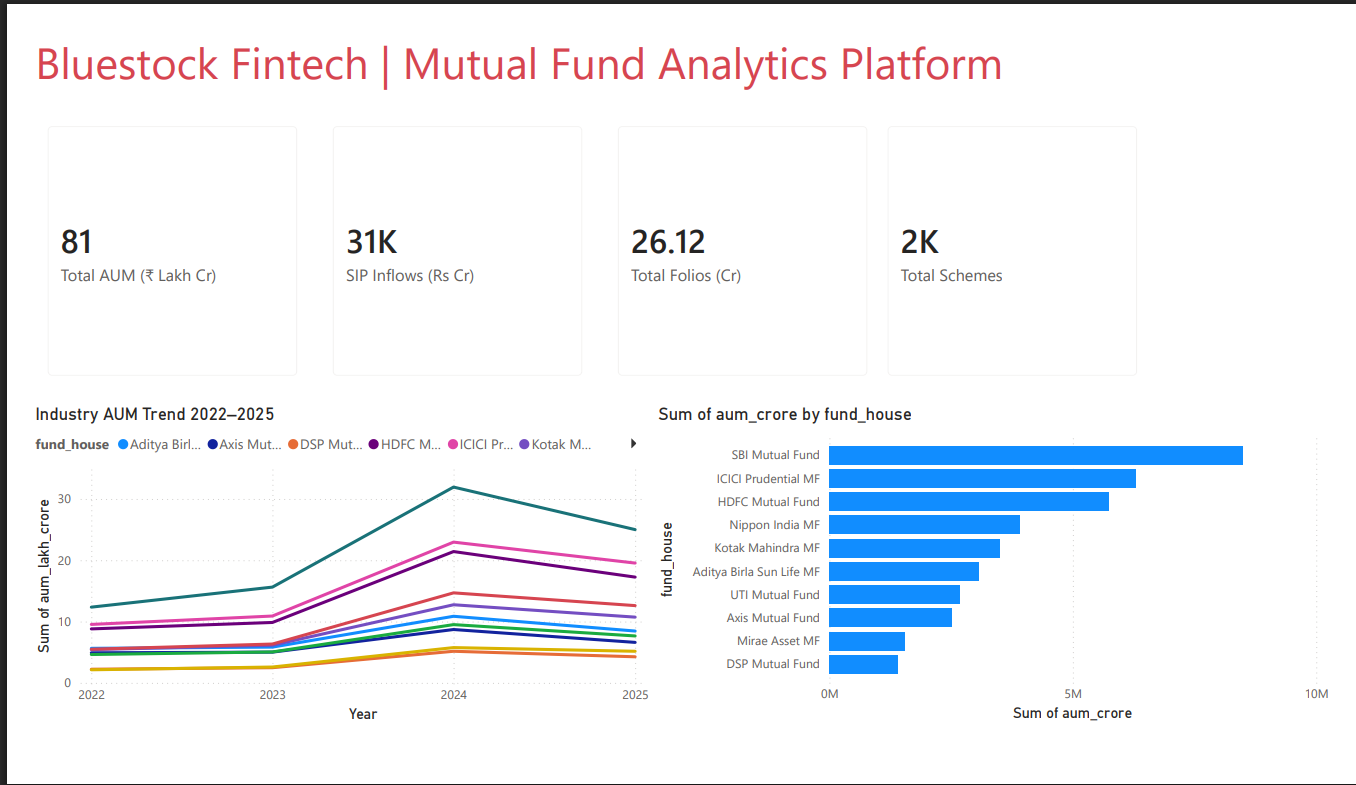

This screenshot's page, from the dashboard's own definition file:
{"tool":"powerbi","page":{"name":"Industry Overview","canvas":[1280,720],"ordinal":0},"visuals":[{"type":"cardVisual","fields":{"Data":["Sum(KPI_AUM.Column1)"]},"box":[0,79.6,279.9,279.9],"z":0},{"type":"cardVisual","fields":{"Data":["Sum(Table (2).Column1)"]},"box":[279.9,79.6,279.9,279.9],"z":1000},{"type":"cardVisual","fields":{"Data":["Sum(Table (3).Column1)"]},"box":[559.9,79.6,279.9,279.9],"z":1001},{"type":"cardVisual","fields":{"Data":["Sum(Table (4).Column1)"]},"box":[824.7,79.6,279.9,279.9],"z":1002},{"type":"lineChart","title":"Industry AUM Trend 2022–2025","fields":{"Category":["clean_aum_by_fund_house.date.Variation.Date Hierarchy.Year","clean_aum_by_fund_house.date.Variation.Date Hierarchy.Quarter","clean_aum_by_fund_house.date.Variation.Date Hierarchy.Month","clean_aum_by_fund_house.date.Variation.Date Hierarchy.Day"],"Y":["Sum(clean_aum_by_fund_house.aum_lakh_crore)"],"Series":["clean_aum_by_fund_house.fund_house"]},"box":[0,370.5,612,317],"z":1003},{"type":"barChart","fields":{"Category":["clean_aum_by_fund_house.fund_house"],"Y":["Sum(clean_aum_by_fund_house.aum_crore)"]},"box":[612,370.5,668.3,317],"z":1004},{"type":"textbox","box":[0,0,1280.3,94.7],"z":1005}]}

Visuals, with their boxes in screenshot pixels (x1, y1, x2, y2), scaled from the page's 1280x720 canvas onto the 1356x785 screenshot:
cardVisual - Sum(KPI_AUM.Column1): locate(0, 87, 297, 392)
cardVisual - Sum(Table (2).Column1): locate(297, 87, 593, 392)
cardVisual - Sum(Table (3).Column1): locate(593, 87, 890, 392)
cardVisual - Sum(Table (4).Column1): locate(874, 87, 1170, 392)
"Industry AUM Trend 2022–2025" lineChart: locate(0, 404, 648, 750)
barChart - clean_aum_by_fund_house.fund_house x Sum(clean_aum_by_fund_house.aum_crore): locate(648, 404, 1355, 750)
textbox: locate(0, 0, 1355, 103)
